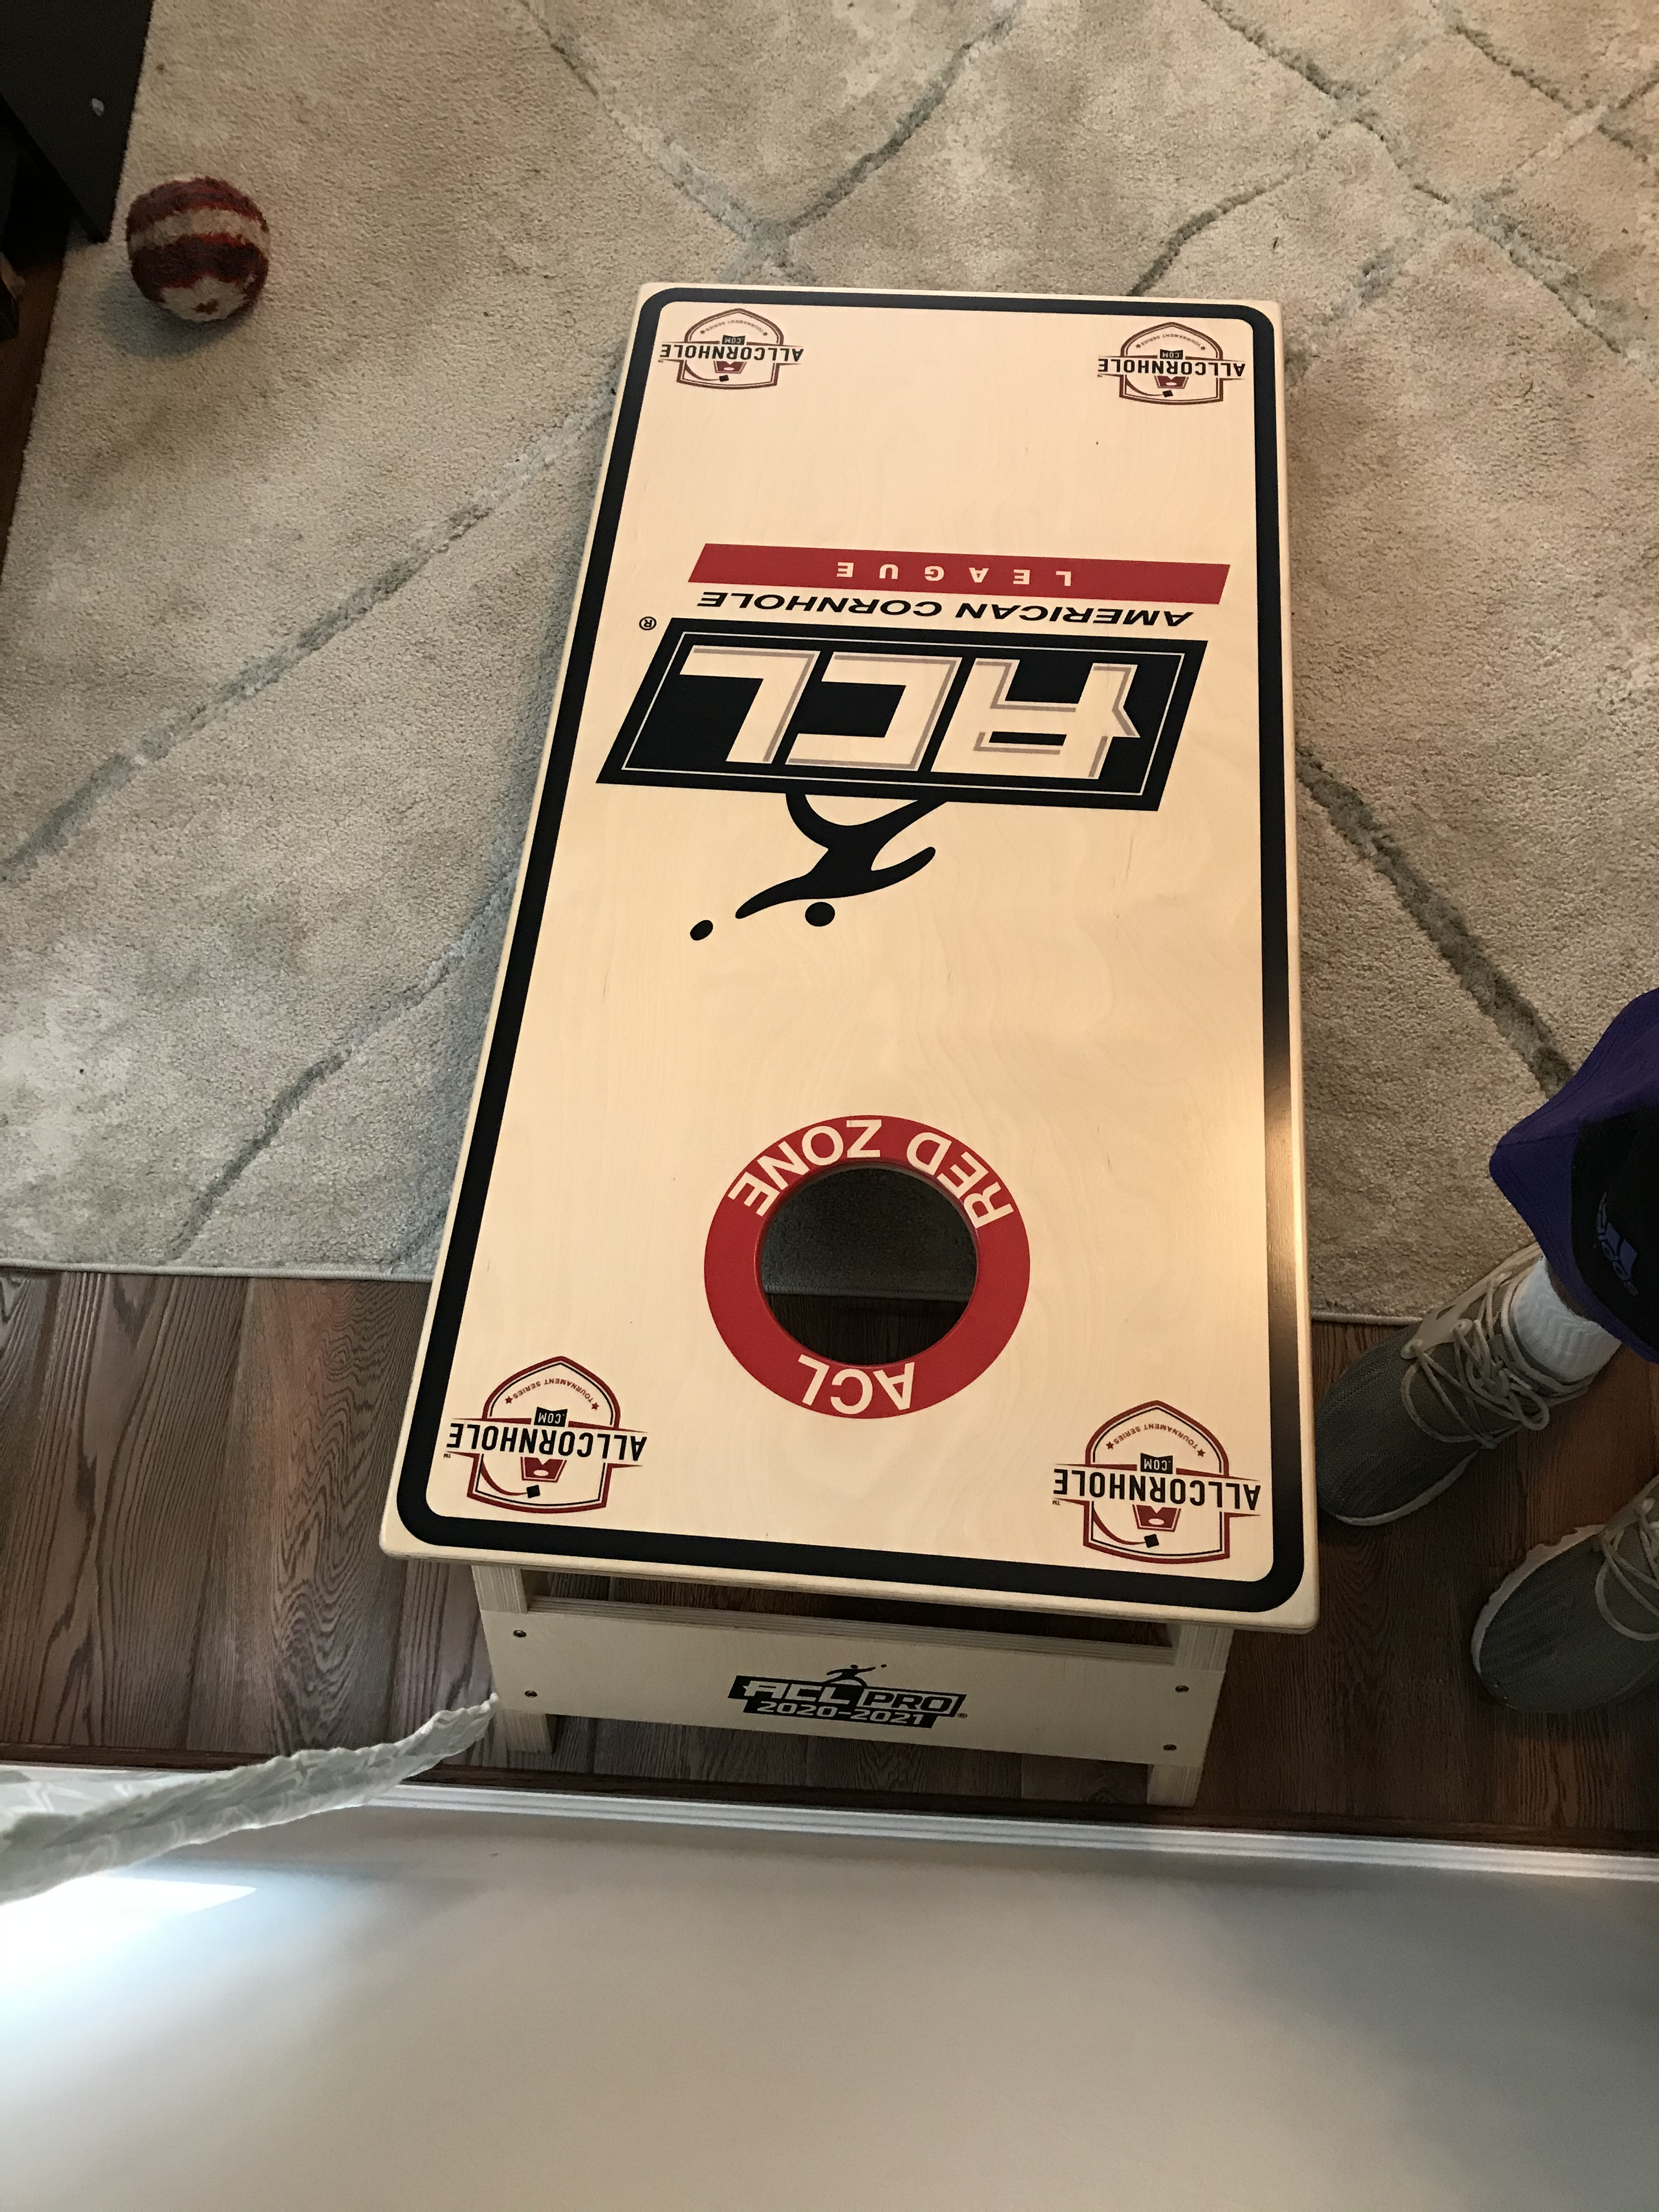Cornhole Board: (371, 260, 1342, 1648)
